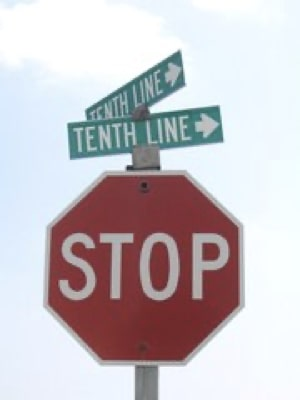StopSign: (42, 168, 247, 369)
